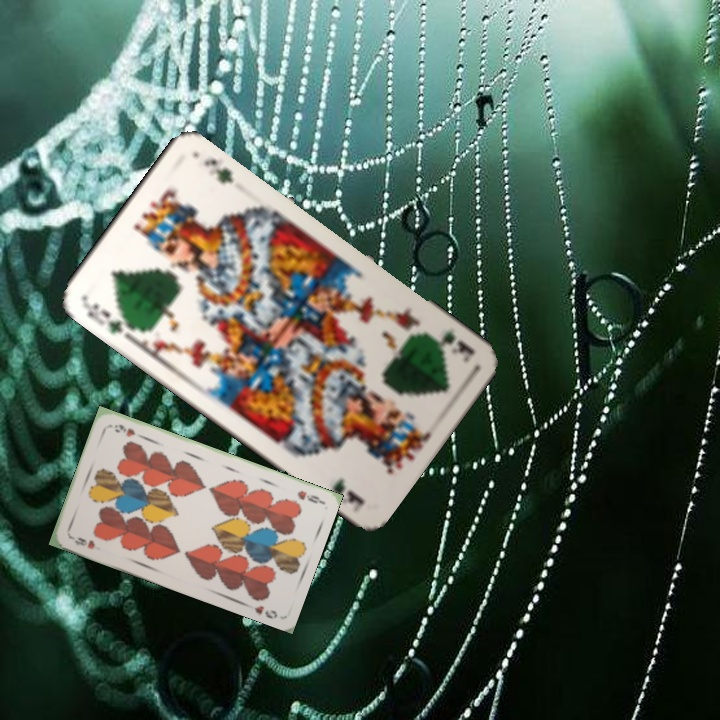GK: (81, 297, 138, 342), (420, 324, 477, 365)
H9: (66, 532, 98, 552), (293, 486, 324, 506)
